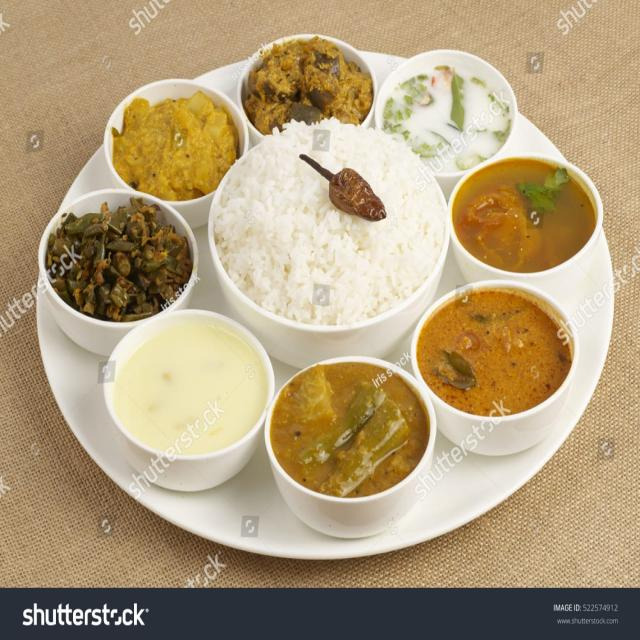veg meals: (25, 17, 621, 554)
